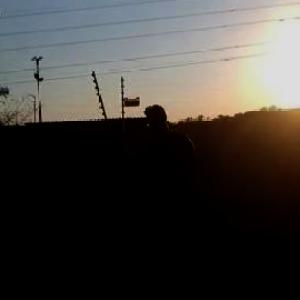follow: (141, 97, 201, 299)
